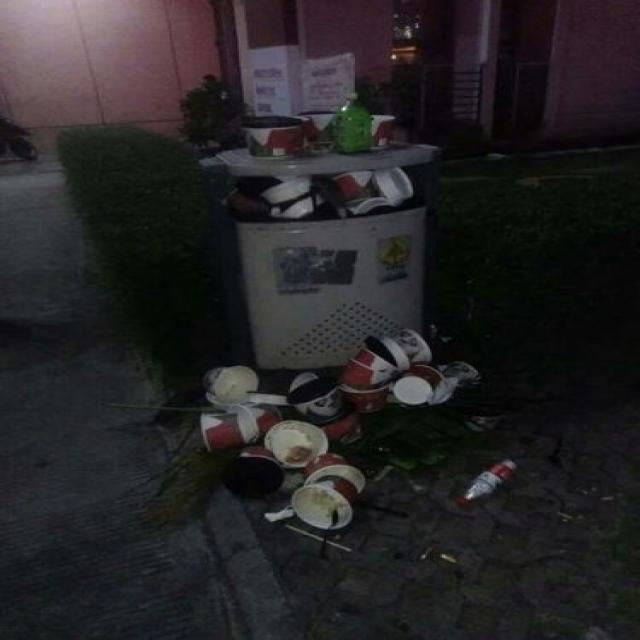garbage: (108, 332, 514, 552)
overflow: (194, 91, 438, 369)
